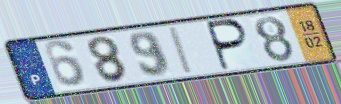6: (44, 38, 88, 93)
8: (252, 14, 296, 65), (86, 35, 130, 85)
9: (129, 30, 172, 79)
I: (168, 25, 197, 76)
P: (206, 17, 252, 73)
